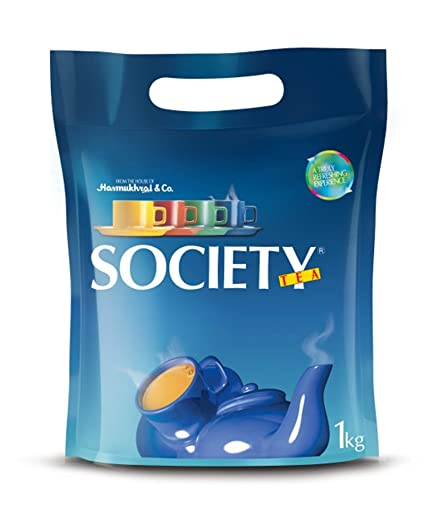society: (50, 124, 384, 469)
